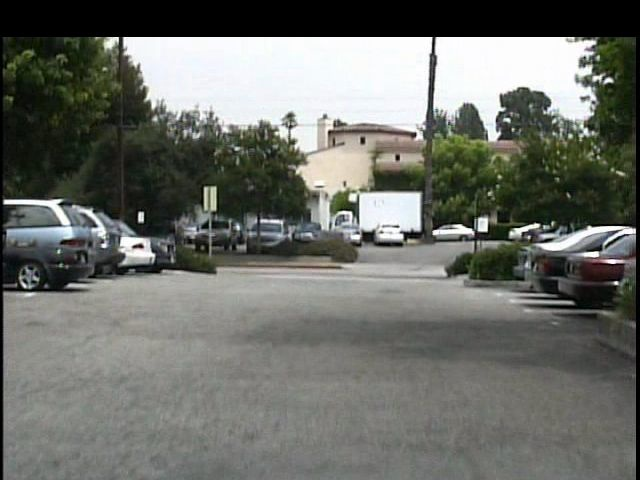person: (170, 216, 194, 258)
